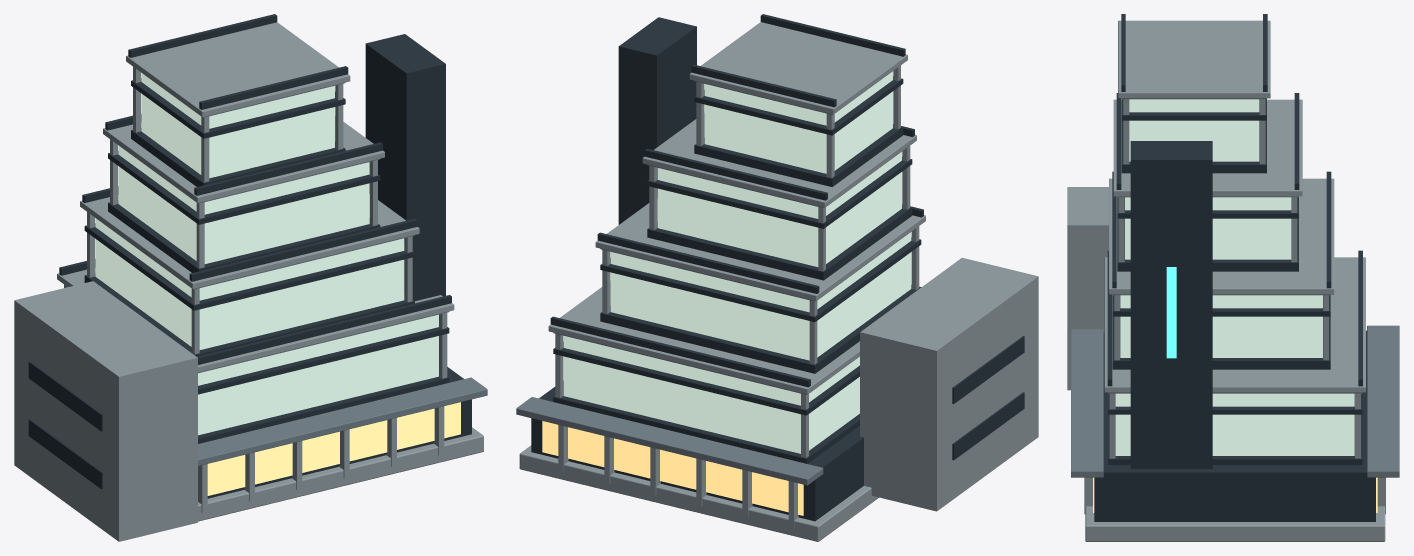
Rendered from vrx_city_services_b_LOD0.fbx.
The picture shows the model from 3 angles, left to right: view 1: azimuth 30°, elevation 25°; view 2: azimuth 150°, elevation 25°; view 3: azimuth 270°, elevation 25°; orthographic projection. The views are drawn at different scales.
Parts seen in each view (by area): view 1: vrx_city_services_b_LOD0; view 2: vrx_city_services_b_LOD0; view 3: vrx_city_services_b_LOD0.
Part boxes in pixels (<box>): vrx_city_services_b_LOD0: <box>14,14,487,541</box>; vrx_city_services_b_LOD0: <box>516,14,1038,541</box>; vrx_city_services_b_LOD0: <box>1067,14,1399,541</box>.
Bounding box in the file's own units: 47.7 × 48.5 × 36.6.
